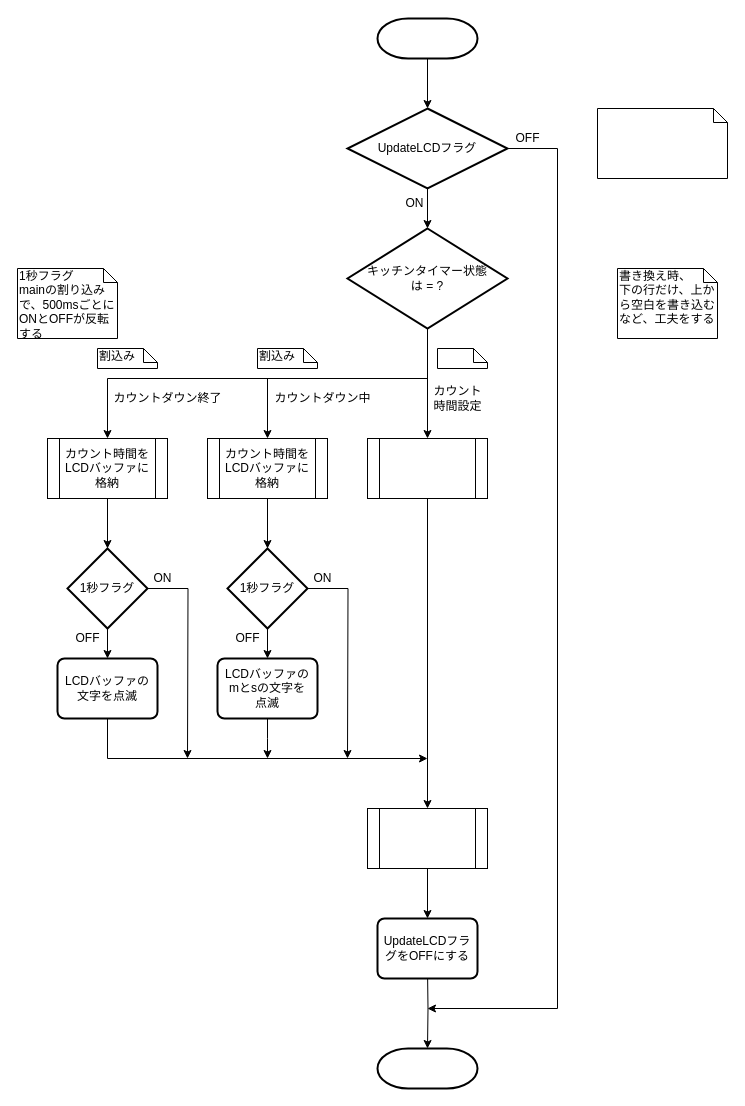
Image size: 745x1106. Some labels were removed from this diagram. The centre of each missing label's shape, as x and y in pixels:
"end" goes at (x=427, y=1068).
"LCDバッファの値を LCDへ表示" goes at (x=427, y=838).
"LCD更新" goes at (x=427, y=38).
"main" goes at (x=462, y=358).
"カウント時間を LCDバッファに 格納" goes at (x=427, y=468).
"点滅で消えた後、 状態が遷移した時、 文字が消えたままにならないようにする" goes at (x=662, y=143).
